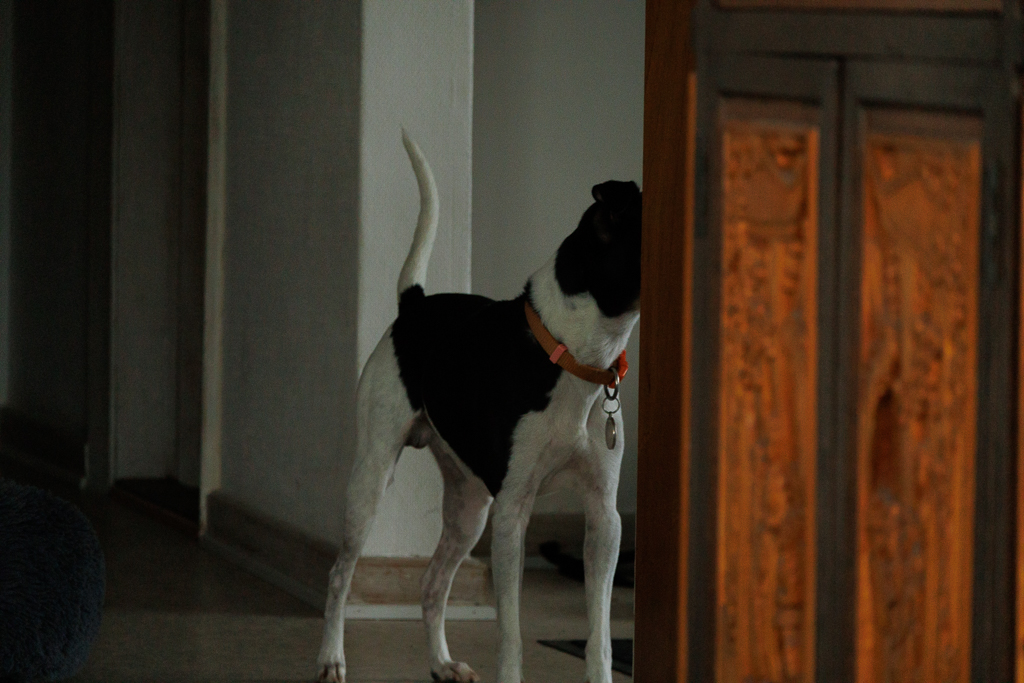Dog: (307, 119, 649, 683)
